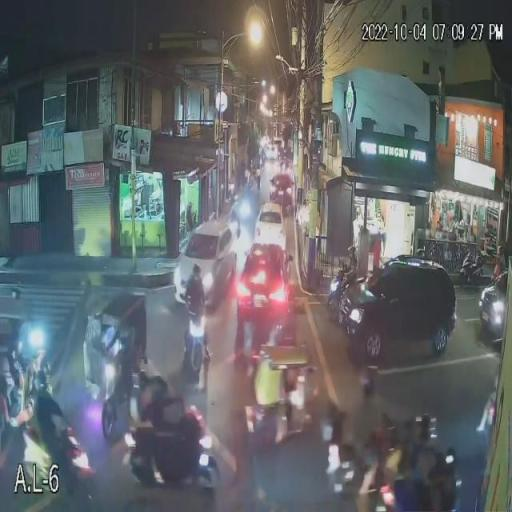helmet: (356, 363, 382, 394), (148, 376, 170, 401), (132, 364, 150, 394), (31, 369, 51, 395), (190, 262, 204, 284)
motorcycle: (324, 427, 436, 497), (120, 429, 230, 491), (22, 421, 99, 502), (180, 306, 209, 373)
rider: (354, 396, 384, 512), (128, 400, 166, 485), (32, 393, 67, 480), (141, 401, 177, 462), (183, 277, 208, 313)
